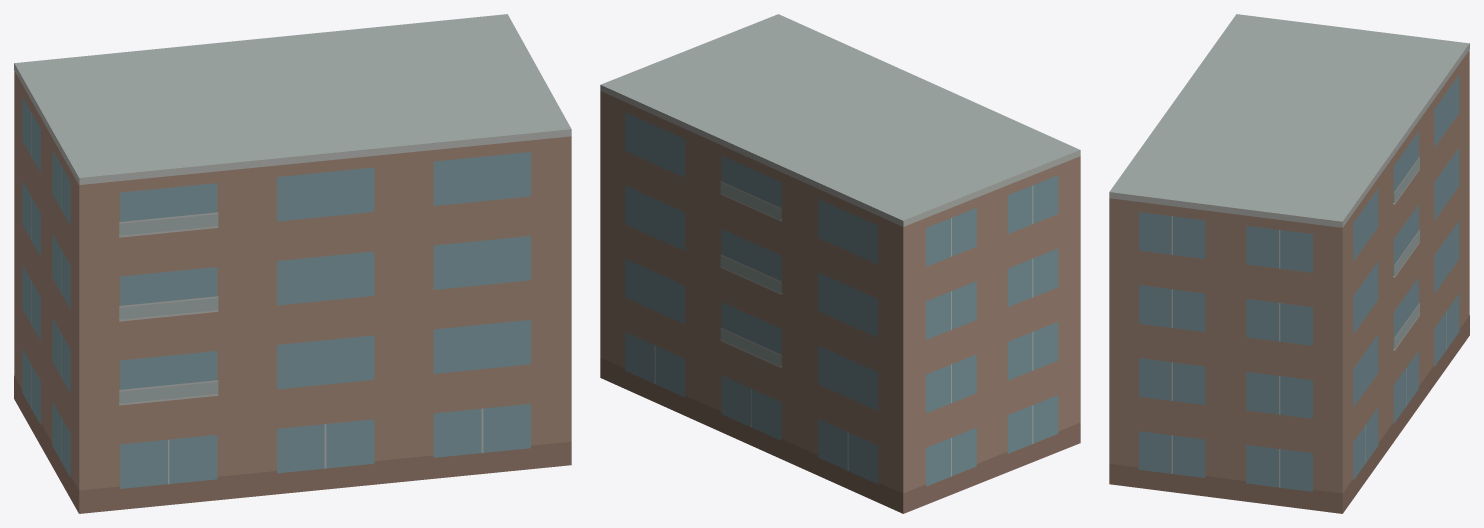
Rendered from survey-upis-32880964.glb.
3 renders of one model, left to right at view 1: azimuth 30°, elevation 25°; view 2: azimuth 150°, elevation 25°; view 3: azimuth 270°, elevation 25°, orthographic. The views are drawn at different scales.
Visible parts, largest first — view 1: survey-upis-32880964.tmp; view 2: survey-upis-32880964.tmp; view 3: survey-upis-32880964.tmp.
Boxes of the visible parts, x1=… form: survey-upis-32880964.tmp: x1=14, y1=14, x2=571, y2=513; survey-upis-32880964.tmp: x1=600, y1=14, x2=1080, y2=513; survey-upis-32880964.tmp: x1=1109, y1=14, x2=1469, y2=513.
Size of the model in its own units: 17.78 by 11.65 by 13.04.
